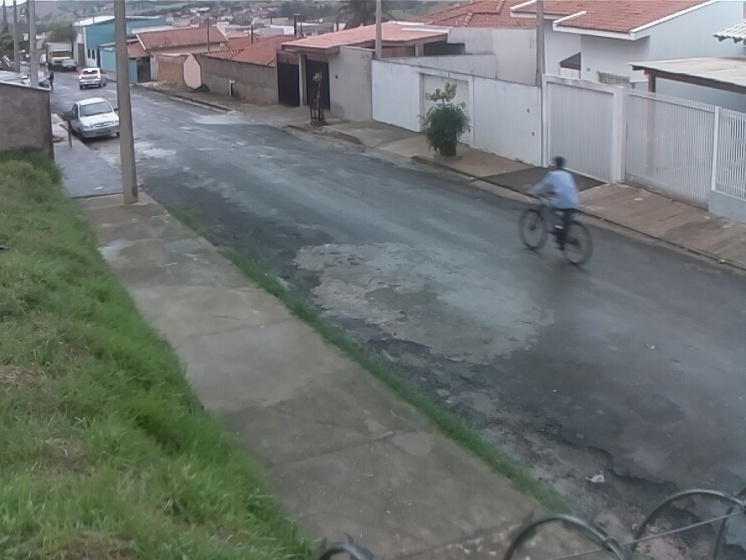person: (523, 152, 581, 254)
